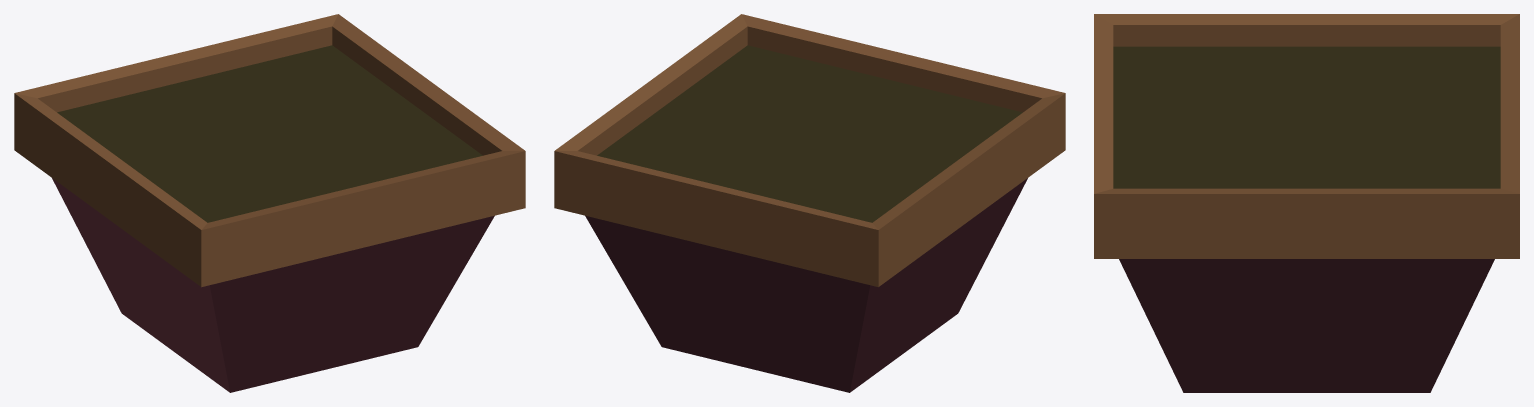
The model's file is 苔藓培养盆.glb.
The picture shows the model from 3 angles, left to right: view 1: azimuth 30°, elevation 25°; view 2: azimuth 150°, elevation 25°; view 3: azimuth 270°, elevation 25°; orthographic projection. The views are drawn at different scales.
Visible parts, largest first — view 1: 苔藓培养盆; view 2: 苔藓培养盆; view 3: 苔藓培养盆.
Boxes of the visible parts, left/top/right/bottom form: 苔藓培养盆: left=14, top=14, right=525, bottom=392; 苔藓培养盆: left=554, top=14, right=1065, bottom=392; 苔藓培养盆: left=1094, top=14, right=1519, bottom=392.
Bounding box in the file's own units: 3.3 × 2.03 × 3.3.
